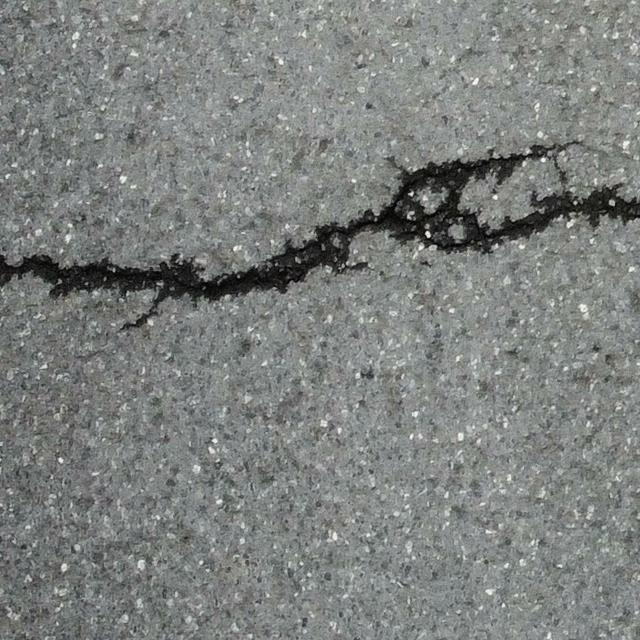TransverseCrack: (1, 139, 640, 325)
